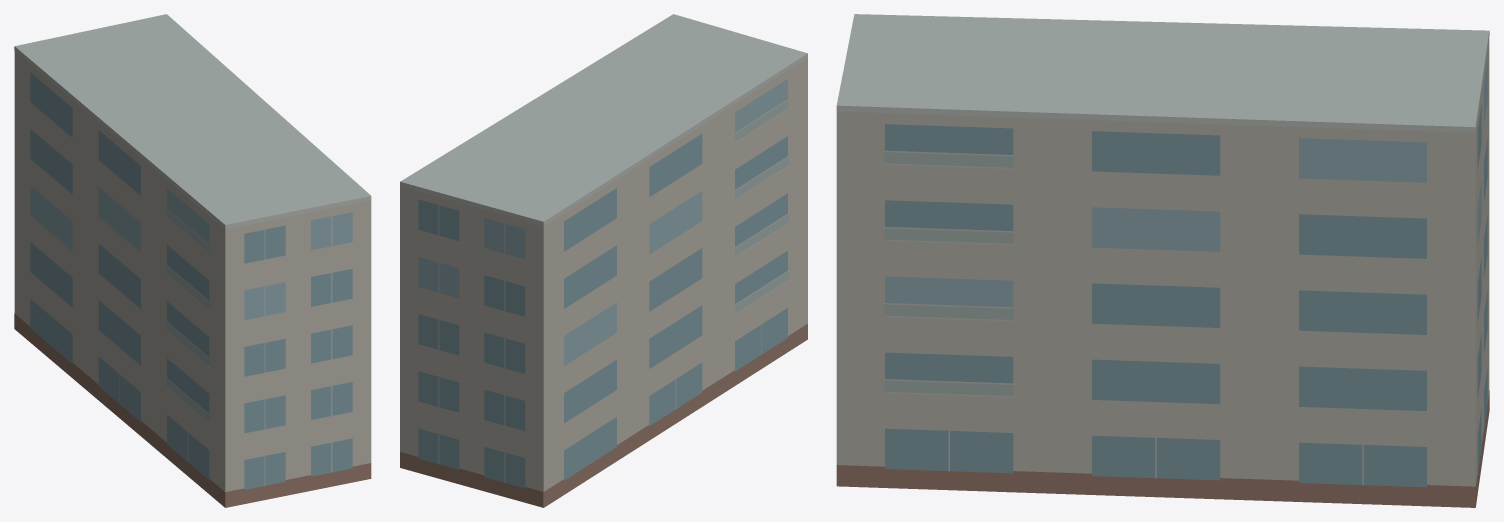
The model's file is survey-upis-33015052.glb.
The picture shows the model from 3 angles, left to right: view 1: azimuth 30°, elevation 25°; view 2: azimuth 150°, elevation 25°; view 3: azimuth 270°, elevation 25°; orthographic projection. The views are drawn at different scales.
Visible parts, largest first — view 1: survey-upis-33015052.tmp; view 2: survey-upis-33015052.tmp; view 3: survey-upis-33015052.tmp.
Part boxes in pixels (x1,y1,x2,y2): survey-upis-33015052.tmp: [14, 14, 371, 507]; survey-upis-33015052.tmp: [400, 14, 807, 507]; survey-upis-33015052.tmp: [836, 14, 1489, 507].
Bounding box in the file's own units: 10.15 × 15.9 × 24.72.
